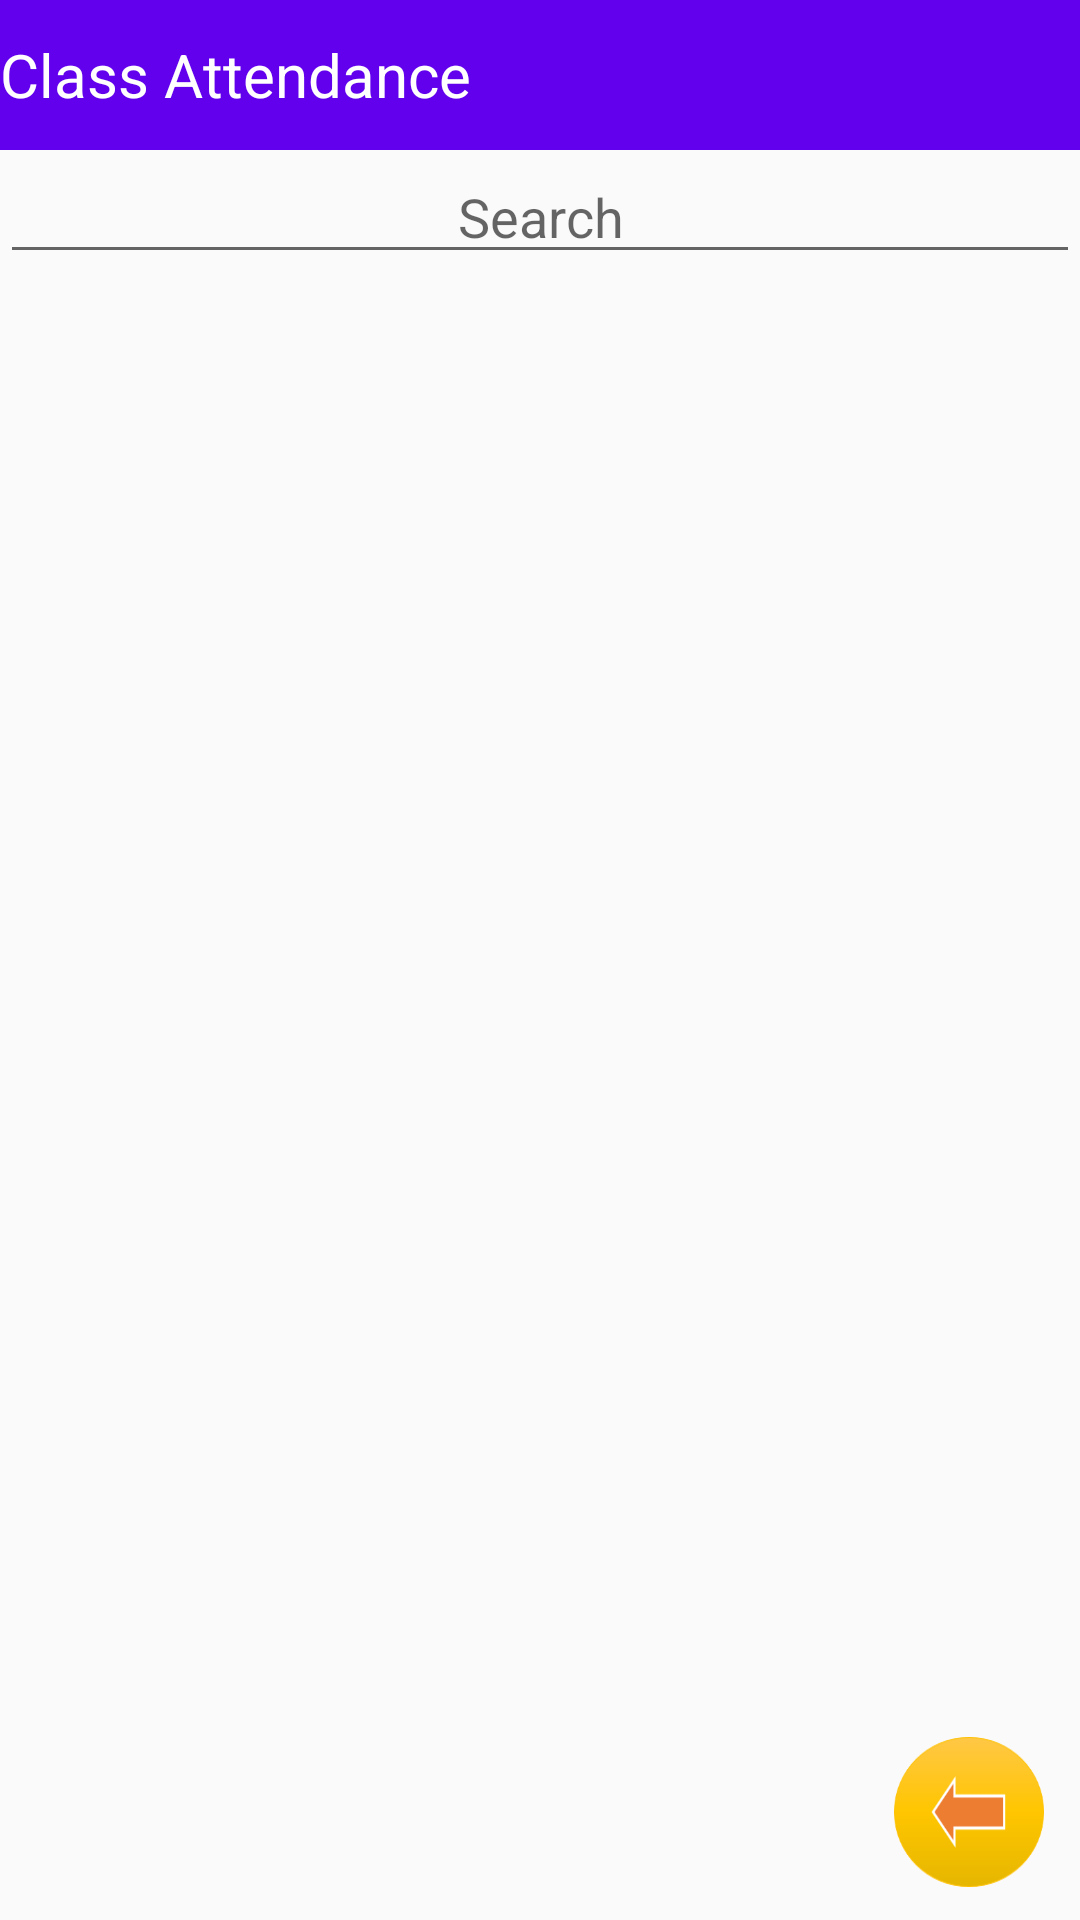

Icon click points for this 1080w x 1920h phone screenshot, format point (x, y):
back: point (969, 1812)
